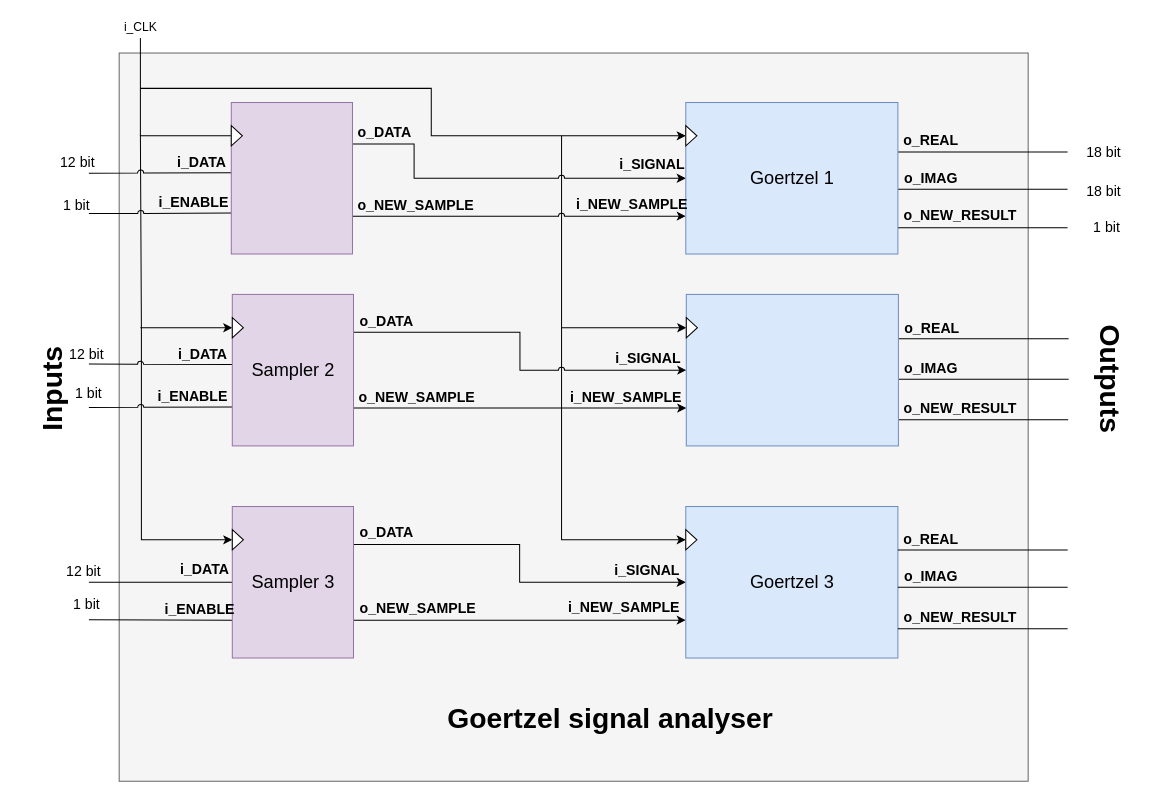
This 1163x799 diagram has some shape labels left out. The centre of each missing label's shape, as x and y in pixels:
Goertzel 2: pixel 791 369
Sampler 1: pixel 291 178
